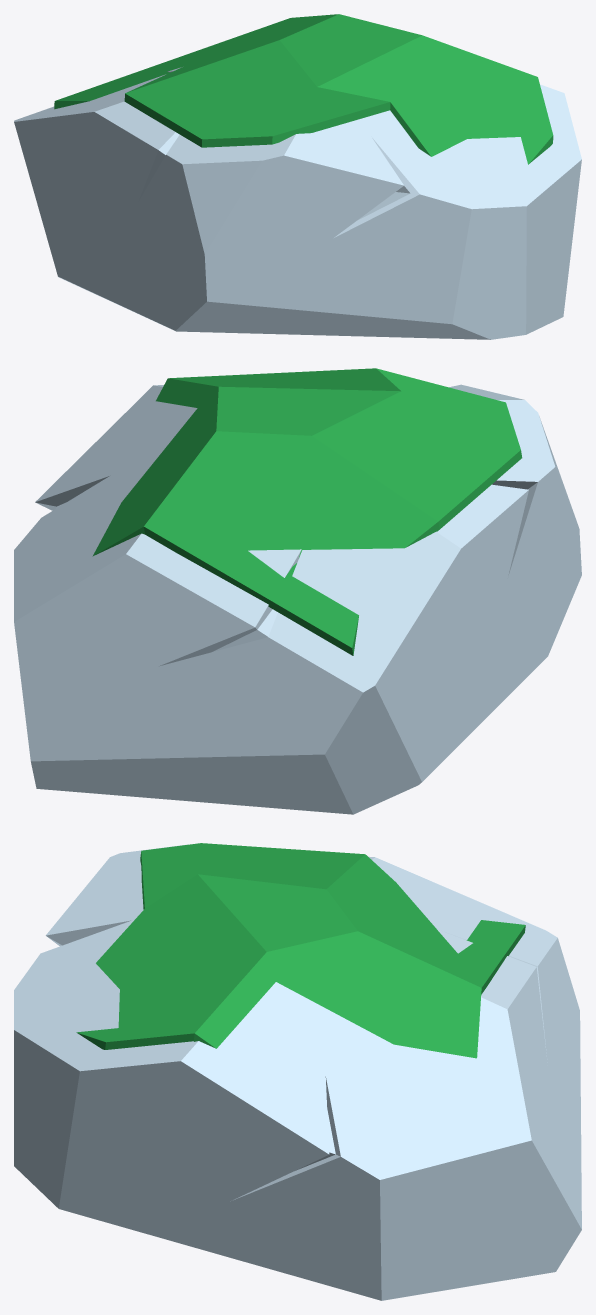
File: Rock 5.fbx
3 views of the same model, one above another, from view 1: azimuth 30°, elevation 25°; view 2: azimuth 150°, elevation 25°; view 3: azimuth 270°, elevation 25° (orthographic). The views are drawn at different scales.
Visible parts, largest first — view 1: Rock 5; view 2: Rock 5; view 3: Rock 5.
Boxes of the visible parts, x1,y1,x2,y2 form: Rock 5: (14,14,581,339); Rock 5: (14,368,581,814); Rock 5: (14,843,581,1300).
Size of the model in its own units: 348 by 230 by 384.
